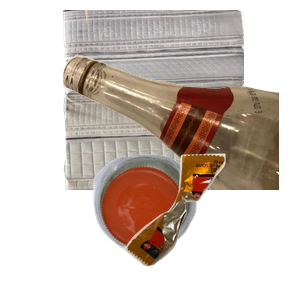glass: (60, 10, 300, 190)
paper: (60, 10, 300, 190)
plastic: (91, 152, 281, 300)
trash: (122, 151, 300, 300)
